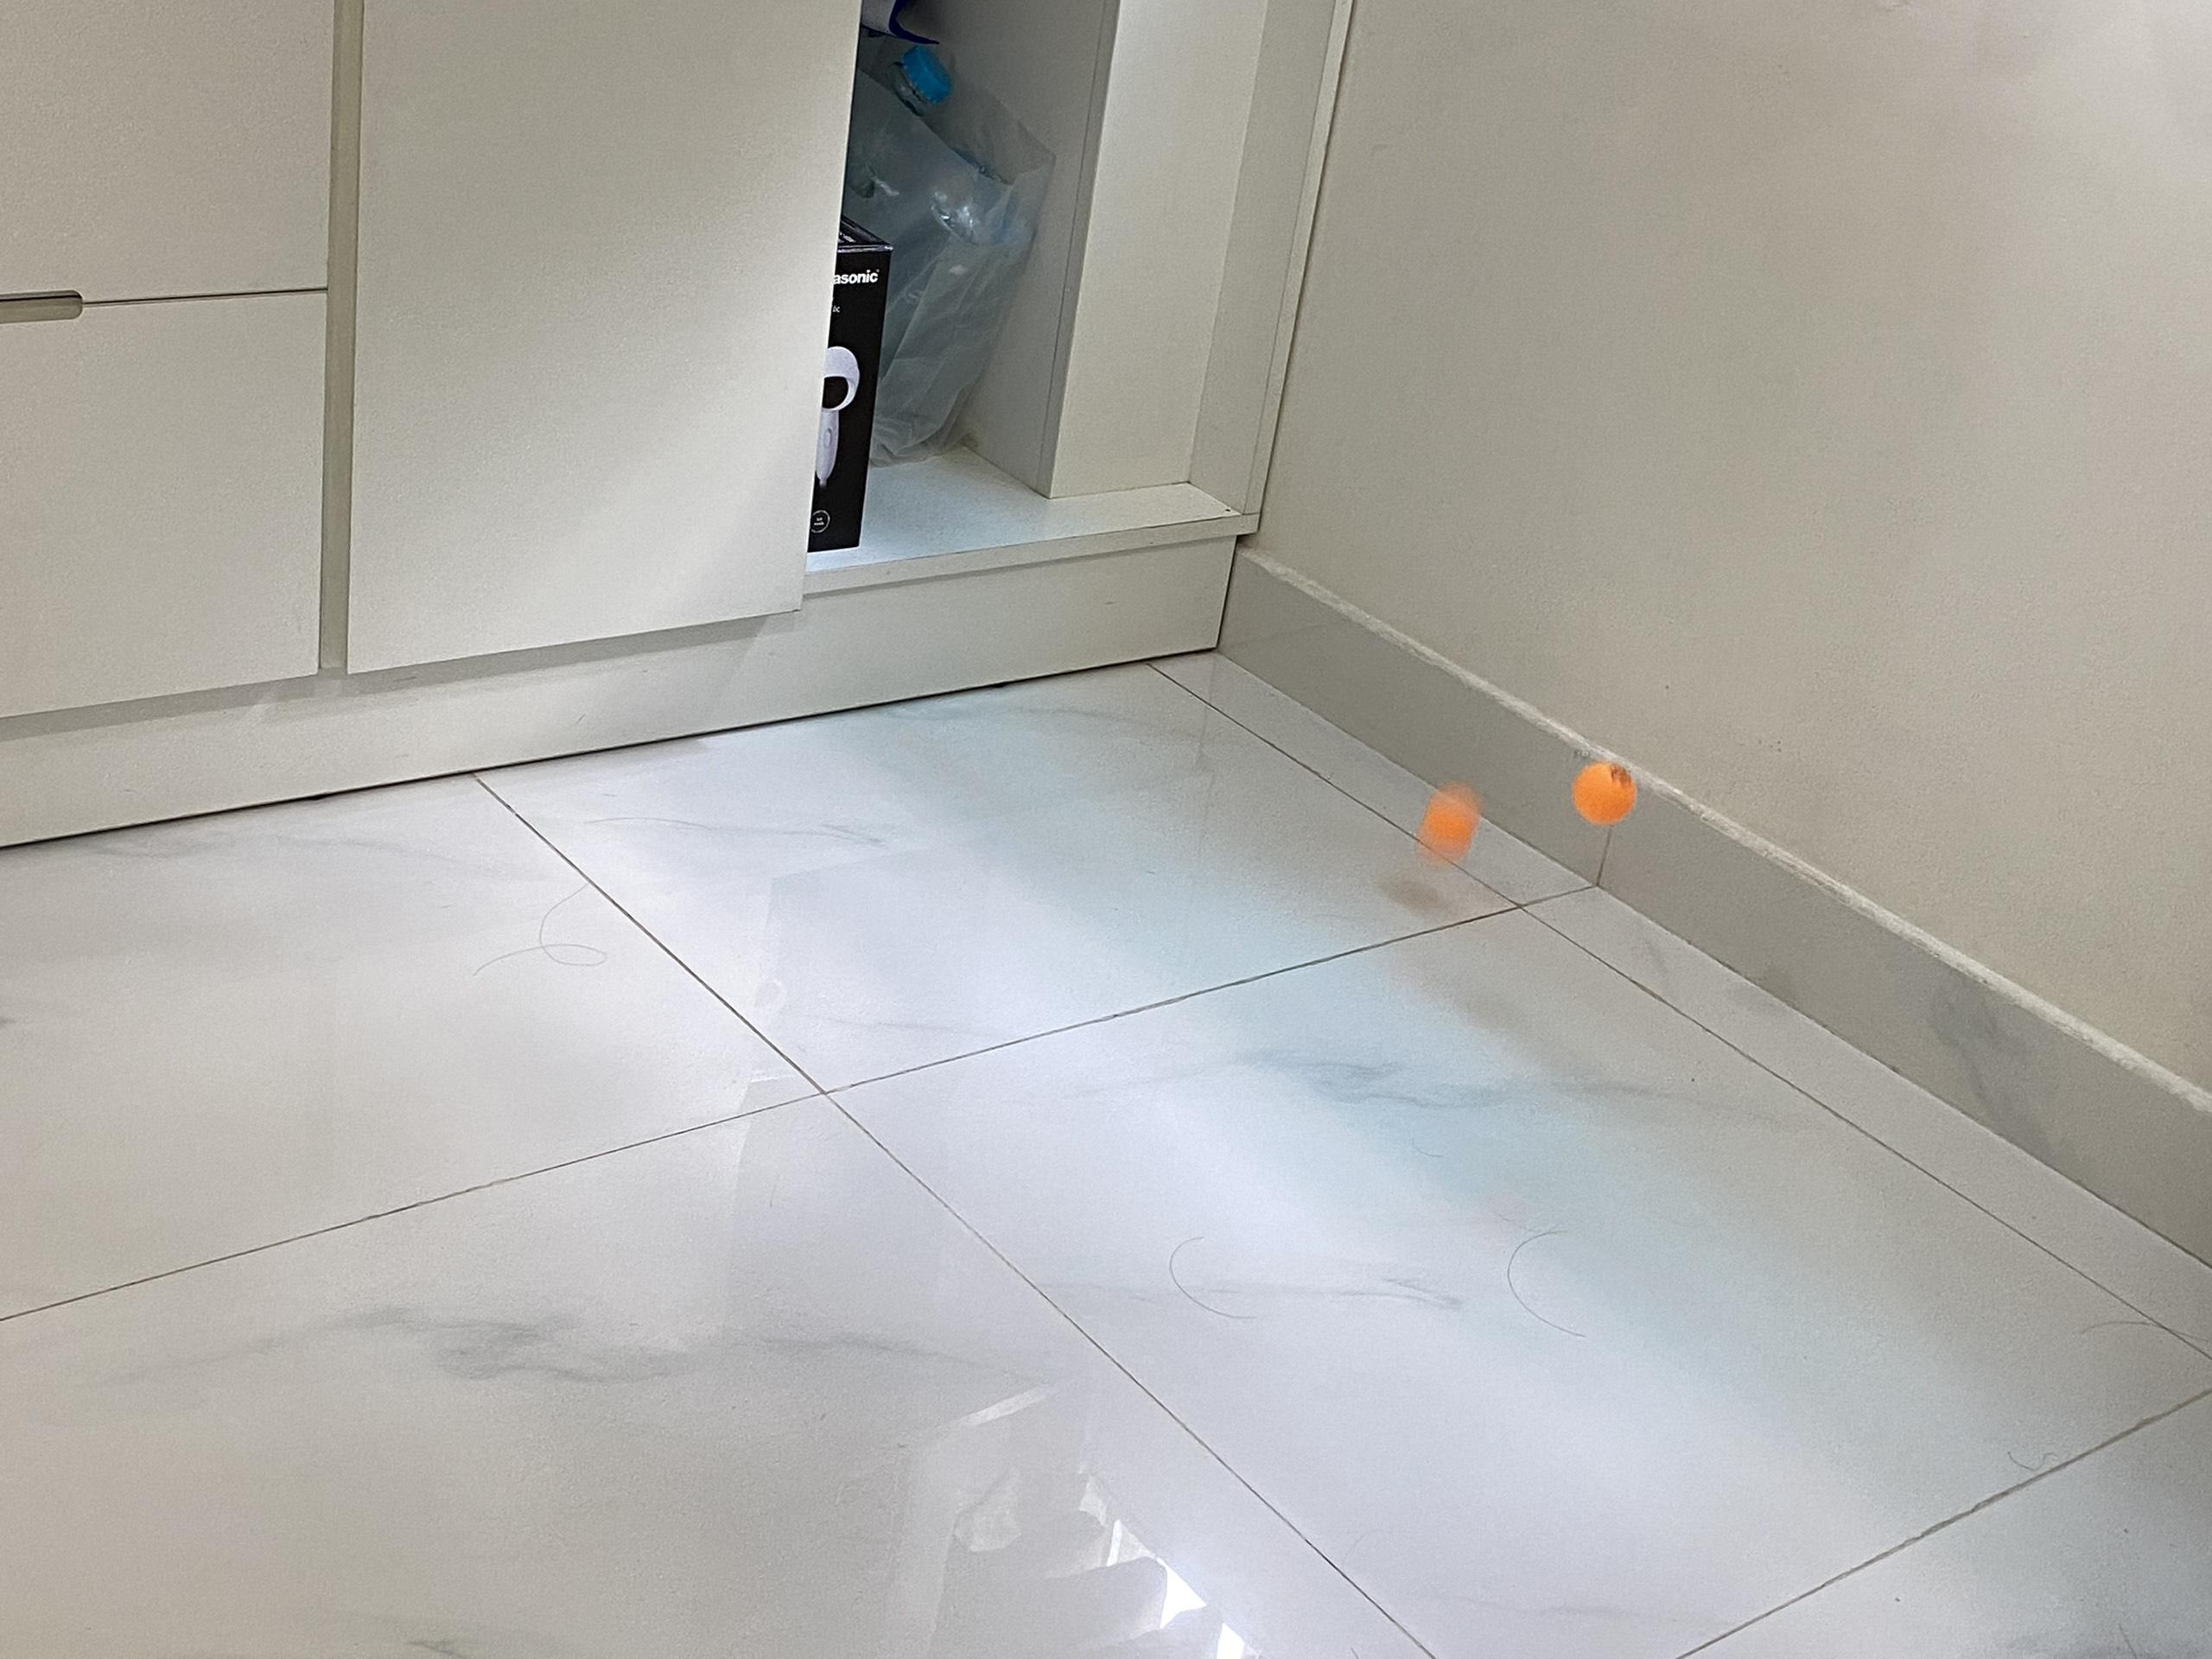oball: (1573, 758, 1637, 828), (1426, 786, 1474, 857)
